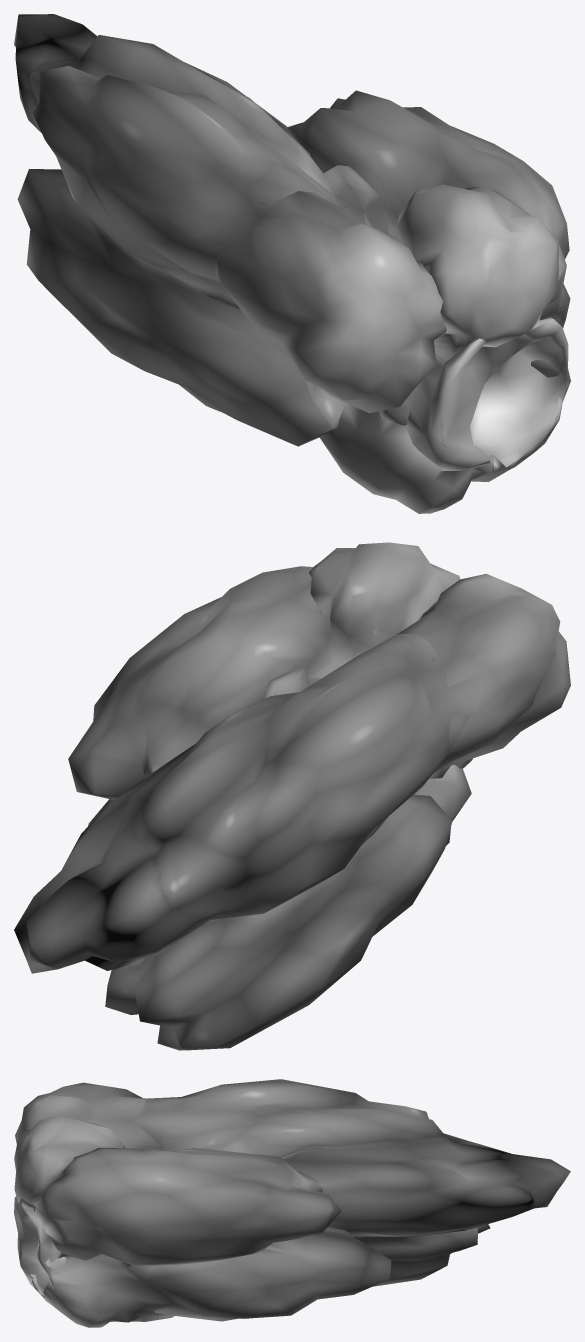
Rendered from attack_effect.obj.
3 views of the same model, one above another, from view 1: azimuth 30°, elevation 25°; view 2: azimuth 150°, elevation 25°; view 3: azimuth 270°, elevation 25° (orthographic). The views are drawn at different scales.
Visible parts, largest first — view 1: 球.001; view 2: 球.001; view 3: 球.001.
Boxes of the visible parts, x1,y1,x2,y2 form: 球.001: (14, 14, 570, 513); 球.001: (14, 542, 570, 1050); 球.001: (14, 1079, 570, 1327).
Size of the model in its own units: 0.682 by 0.6133 by 1.53.
Materials: 1 (1 with a texture image).
